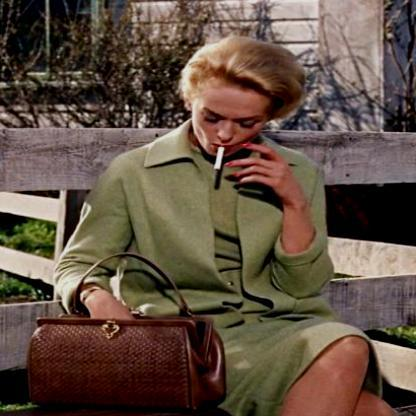cigarette: (214, 144, 225, 172)
person: (90, 33, 370, 415)
